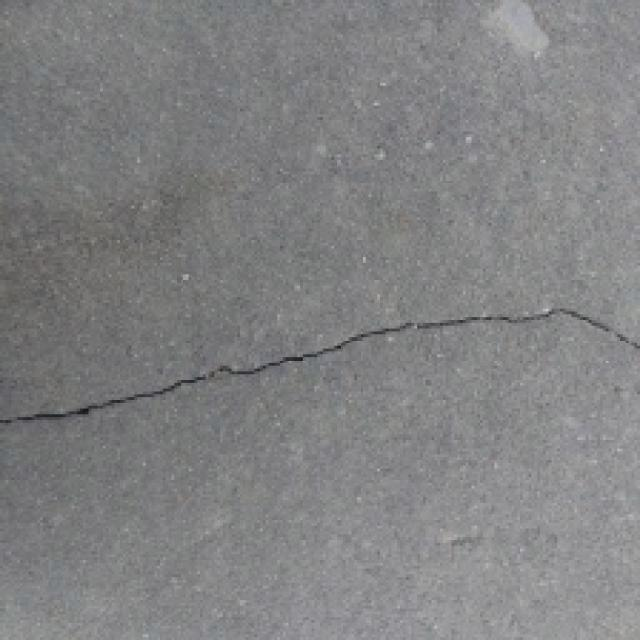crack: (0, 278, 630, 466)
